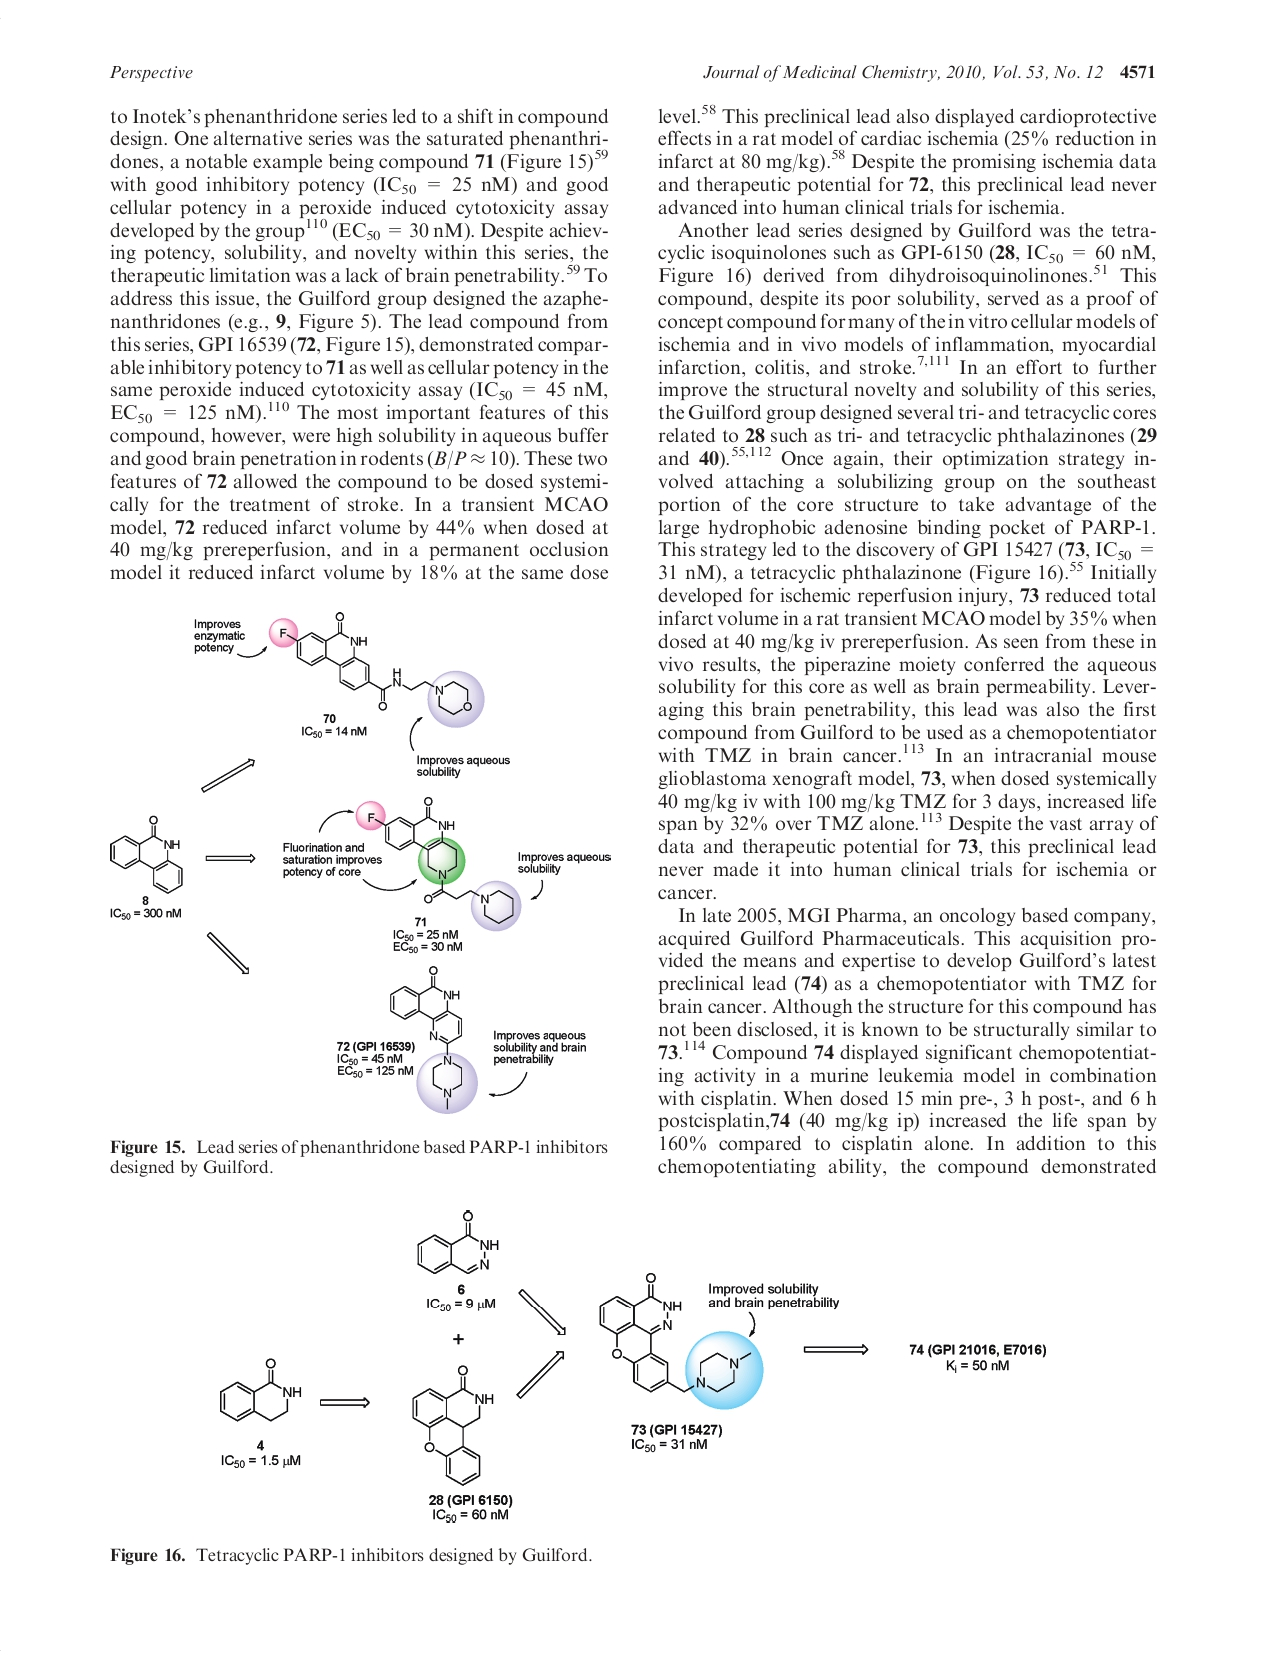exist_molecular: (592, 1267, 759, 1398), (360, 793, 520, 924), (275, 614, 477, 715), (383, 962, 477, 1114), (406, 1362, 499, 1488), (106, 809, 189, 900), (408, 1208, 501, 1282), (218, 1355, 305, 1426)
